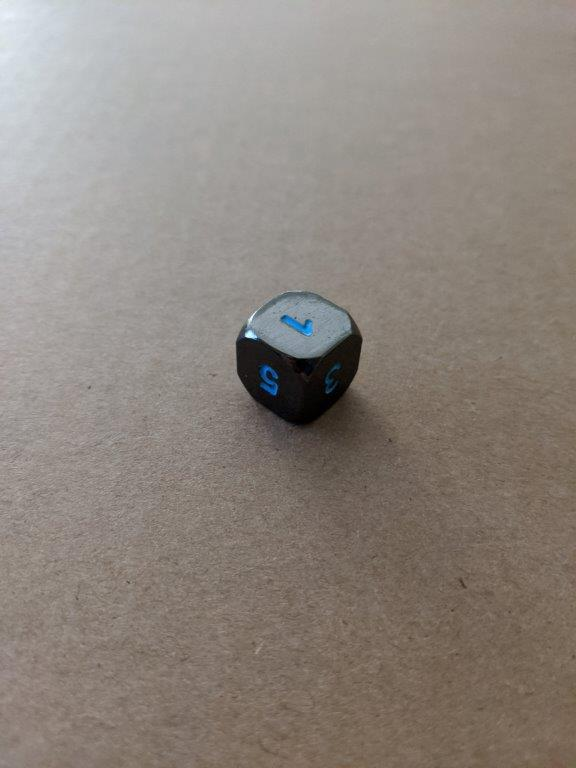d6-1: (235, 291, 366, 424)
